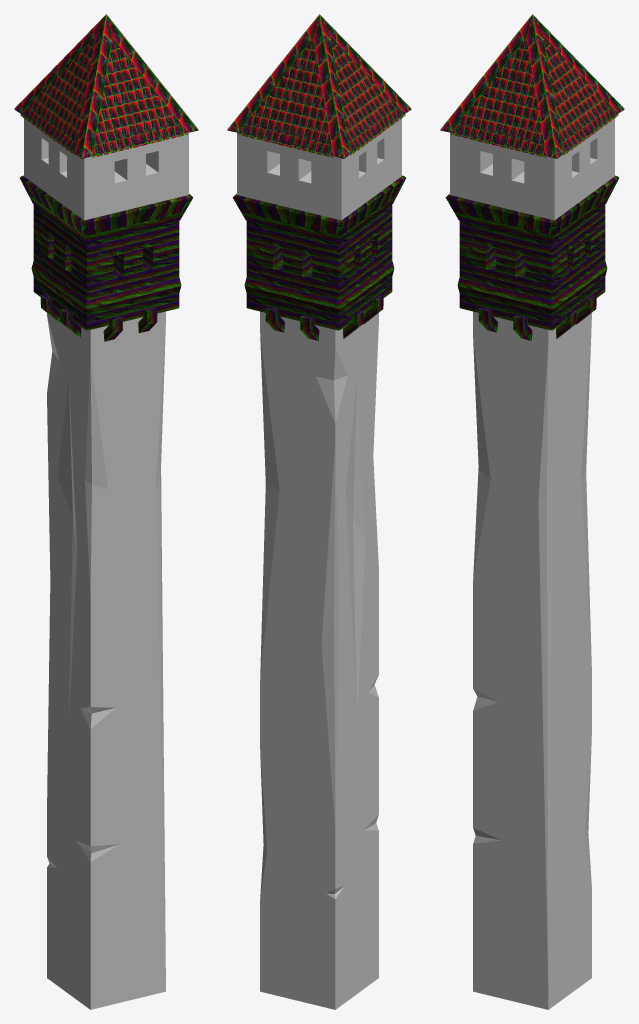
Rendered from SM_10x10TowerSquareSmall_Top.fbx.
The picture shows the model from 3 angles, left to right: view 1: azimuth 30°, elevation 25°; view 2: azimuth 150°, elevation 25°; view 3: azimuth 330°, elevation 25°; orthographic projection.
Visible parts, largest first — view 1: SM_10x10TowerSquareSmall_Top_LOD0; view 2: SM_10x10TowerSquareSmall_Top_LOD0; view 3: SM_10x10TowerSquareSmall_Top_LOD0.
Part boxes in pixels (x1,y1,x2,y2): SM_10x10TowerSquareSmall_Top_LOD0: (14, 14, 198, 1009); SM_10x10TowerSquareSmall_Top_LOD0: (227, 14, 411, 1009); SM_10x10TowerSquareSmall_Top_LOD0: (440, 14, 624, 1009).
Size of the model in its own units: 1120 by 1120 by 8879.
3 materials, 2 textured.
